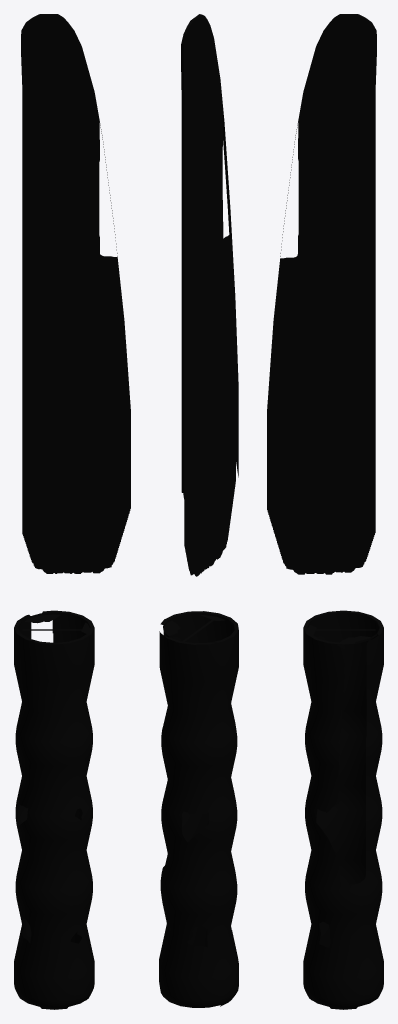
The model's file is knife.fbx.
3 views of the same model, side by side, from view 1: azimuth 90°, elevation 25°; view 2: azimuth 150°, elevation 25°; view 3: azimuth 270°, elevation 25° (orthographic).
Parts seen in each view (by area): view 1: knife; view 2: knife; view 3: knife.
Boxes of the visible parts, <box> form: knife: <box>14,14,130,1009</box>; knife: <box>159,14,238,1007</box>; knife: <box>267,14,383,1009</box>.
Bounding box in the file's own units: 1.12 × 15.03 × 1.62.
